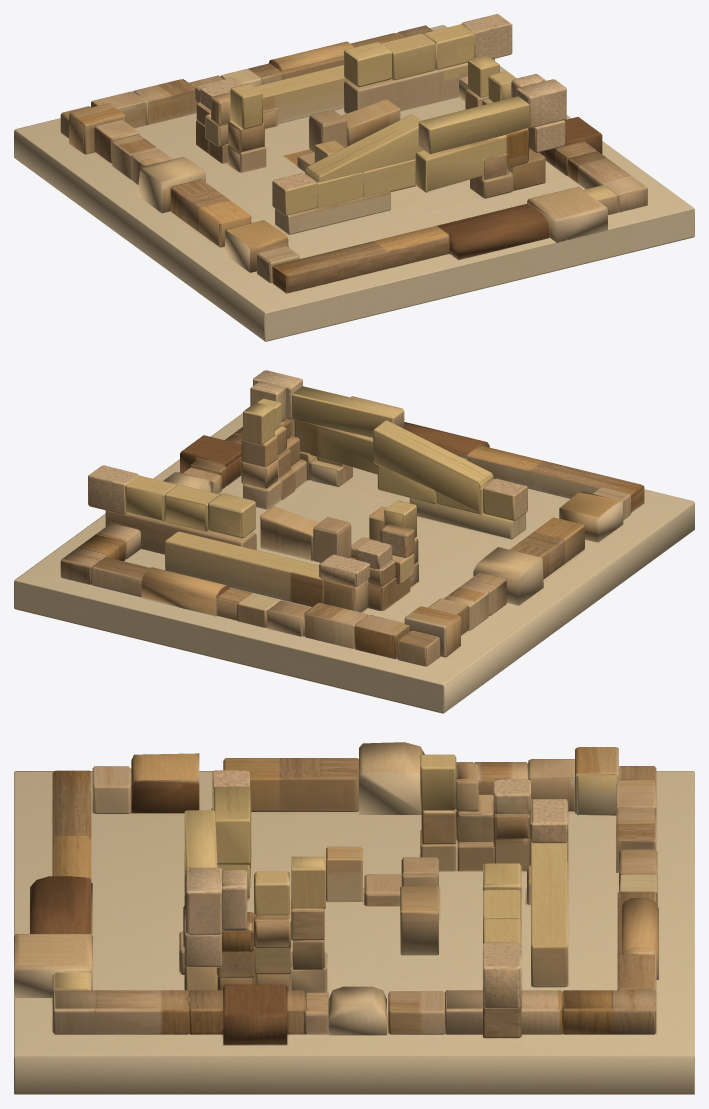
The model's file is wooden+block+puzzle+3d+model.fbx.
3 renders of one model, top to bottom at view 1: azimuth 30°, elevation 25°; view 2: azimuth 150°, elevation 25°; view 3: azimuth 270°, elevation 25°, orthographic. The views are drawn at different scales.
Visible parts, largest first — view 1: meshes[0]; view 2: meshes[0]; view 3: meshes[0].
Part boxes in pixels (x1,y1,x2,y2): meshes[0]: (14, 14, 694, 341); meshes[0]: (14, 370, 694, 713); meshes[0]: (14, 742, 694, 1094).
Bounding box in the file's own units: 0.9902 × 0.2676 × 0.998.
1 material, 1 textured.
